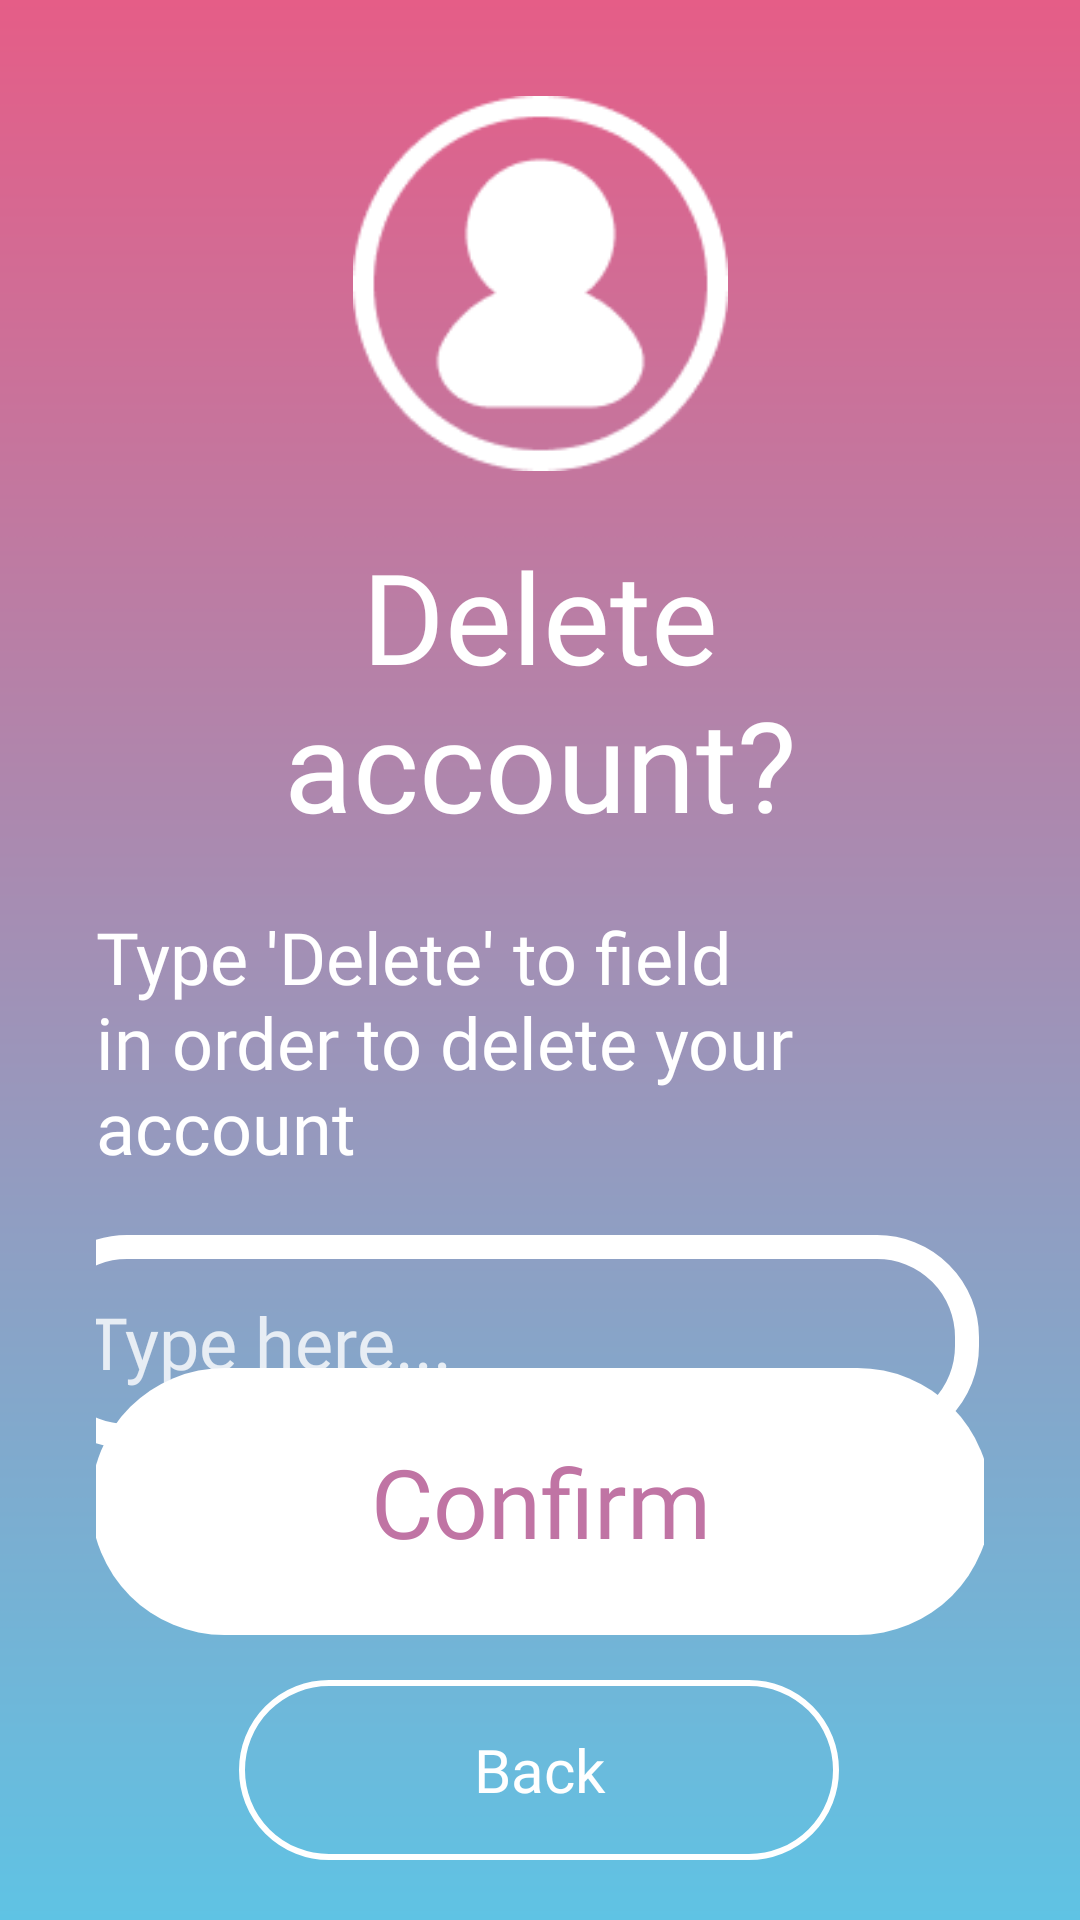

Icon bounding boxes for this 1080x1920 phone screenshot, format (x1=x1, y1=y1, x2=x2, y2=y2):
loginicon: (x1=435, y1=158, x2=646, y2=410)
